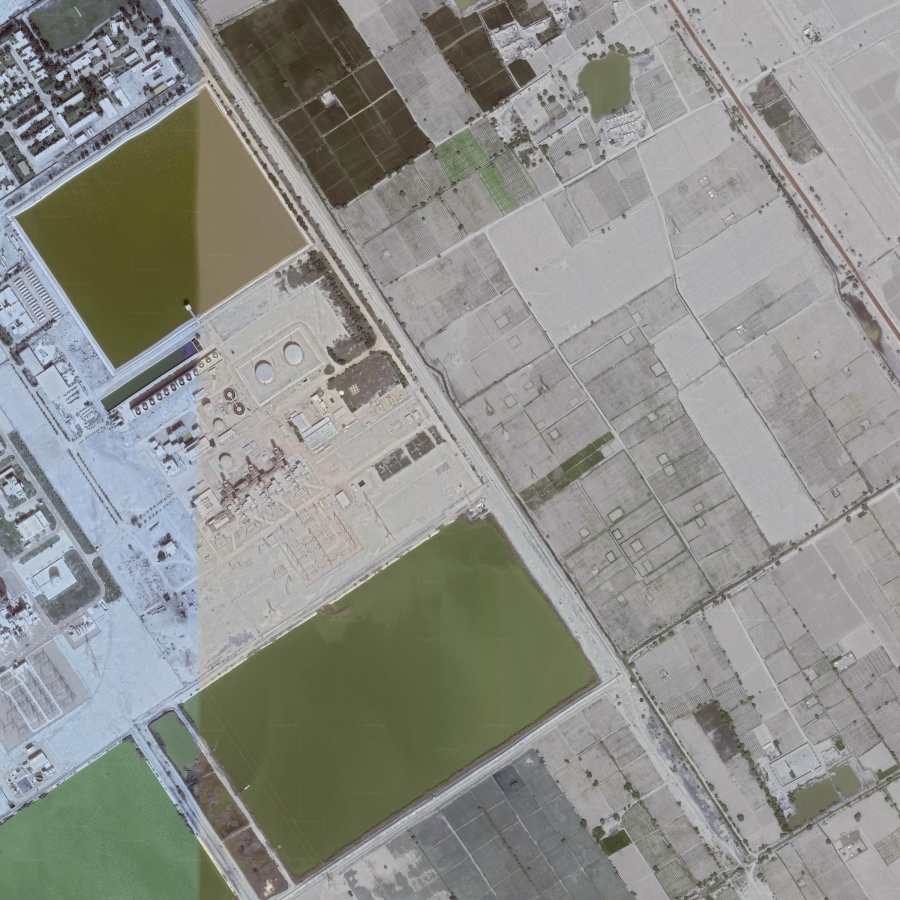PowerPlant: (148, 342, 343, 536)
